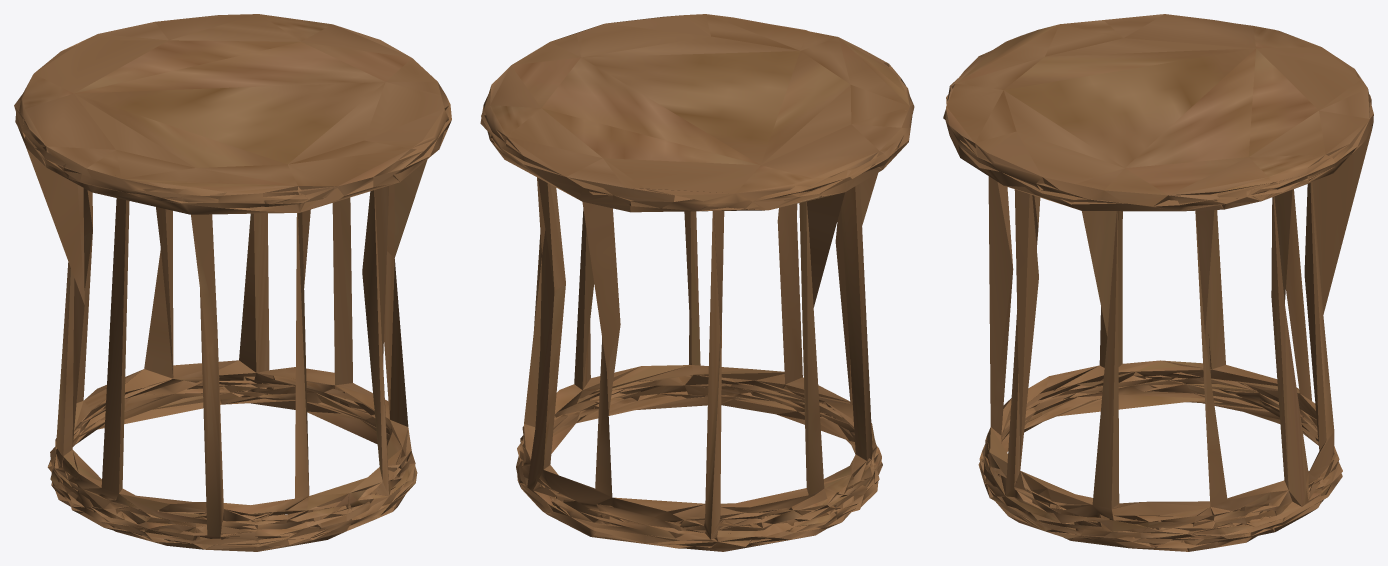
The model's file is mj-wicker-table.lod1.glb.
The picture shows the model from 3 angles, left to right: view 1: azimuth 30°, elevation 25°; view 2: azimuth 150°, elevation 25°; view 3: azimuth 270°, elevation 25°; orthographic projection.
Parts seen in each view (by area): view 1: mj-wicker-table; view 2: mj-wicker-table; view 3: mj-wicker-table.
Boxes of the visible parts, box(x1,y1,x2,y2) form: mj-wicker-table: box(14, 14, 451, 551); mj-wicker-table: box(480, 14, 914, 551); mj-wicker-table: box(943, 14, 1373, 551).
Bounding box in the file's own units: 0.7429 × 0.7152 × 0.7408.
1 material, 1 textured.
